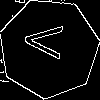V: (24, 23, 72, 61)
